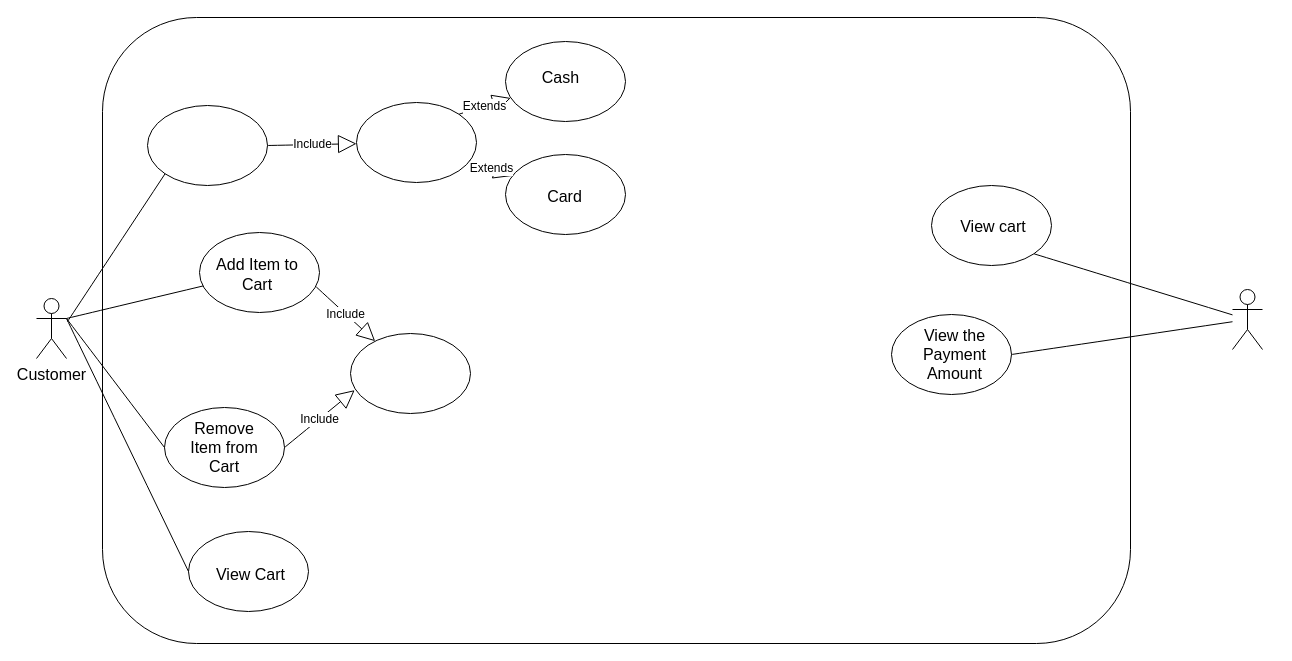
The diagram is 1292 pixels wide and 661 high, and some of its shapes have lost their labels. The box of each missing label's shape, as (x1, y1, x2, y2) in pixels:
Cashier: (1232, 288, 1262, 350)
Choose Payment Type: (356, 102, 476, 182)
Make Payment: (146, 104, 268, 186)
Reading RFID tag: (350, 332, 470, 414)
